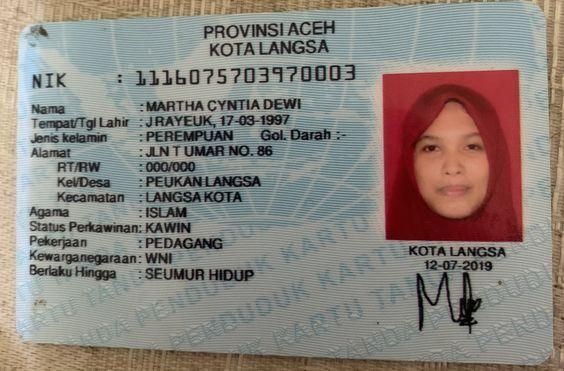ID-card: (19, 1, 549, 359)
